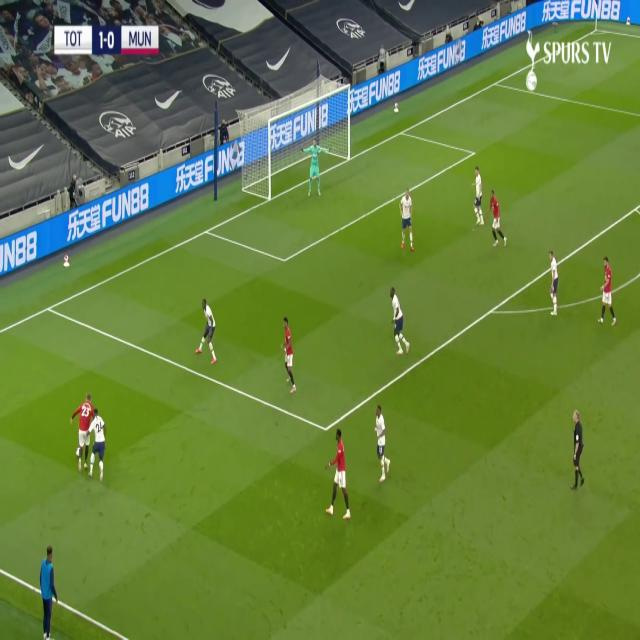Ball: (75, 445, 80, 459)
GoalKeeper: (306, 143, 326, 199)
TEAM 1: (324, 430, 352, 519), (72, 387, 90, 469), (487, 186, 506, 250), (282, 319, 297, 396), (600, 256, 616, 328)
TEAM 2: (387, 283, 408, 357), (90, 406, 108, 482), (196, 299, 216, 365), (375, 403, 389, 484), (399, 189, 415, 255), (471, 167, 486, 226), (548, 252, 561, 318)
